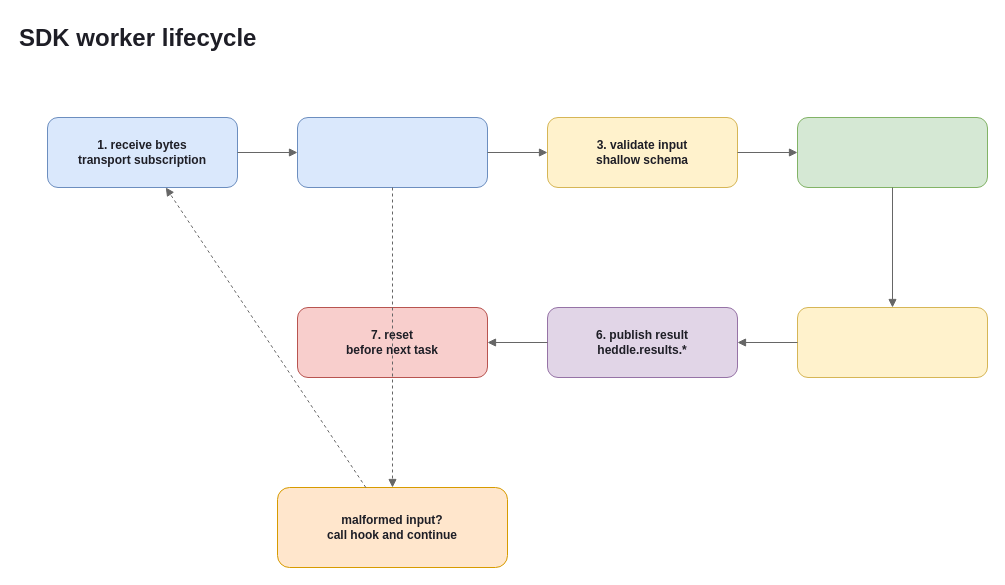
This 1005x585 diagram has some shape labels left out. The shapes that lost their labels are listed below. From the top down, each one's centre as x and y in pixels, then its label:
the point at 392,152: 2. decode TaskMessage
the point at 892,152: 4. process native payload
the point at 892,342: 5. validate output object-shaped JSON
